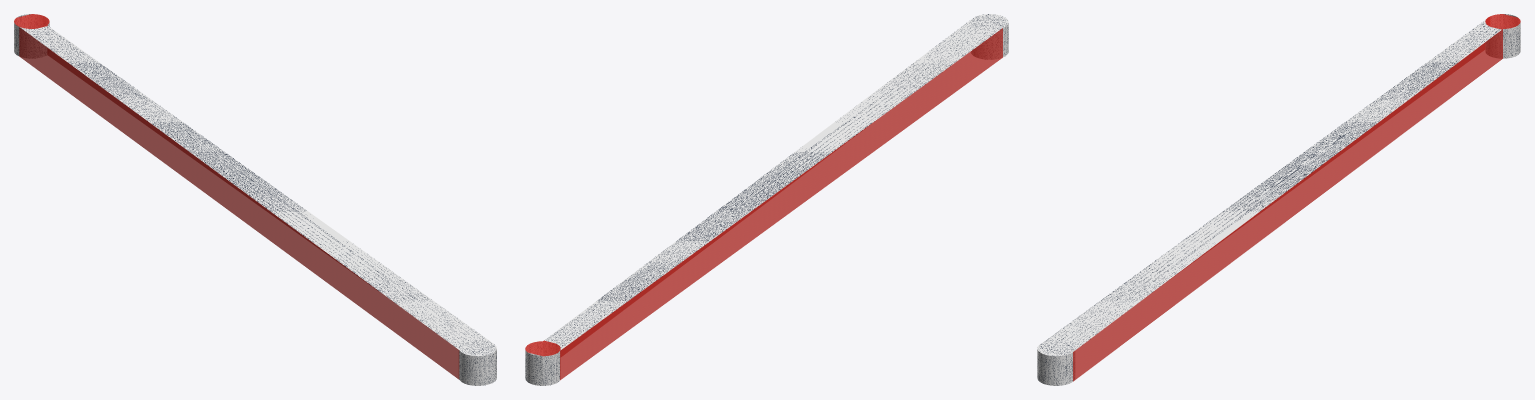
Rendered from GuardRail.fbx.
3 renders of one model, left to right at view 1: azimuth 30°, elevation 25°; view 2: azimuth 150°, elevation 25°; view 3: azimuth 330°, elevation 25°, orthographic.
Parts seen in each view (by area): view 1: Model; view 2: Model; view 3: Model.
Part boxes in pixels (x1,y1,x2,y2): Model: [14, 14, 496, 385]; Model: [525, 14, 1008, 385]; Model: [1037, 14, 1520, 385].
Bounding box in the file's own units: 2.34 × 2.01 × 57.
